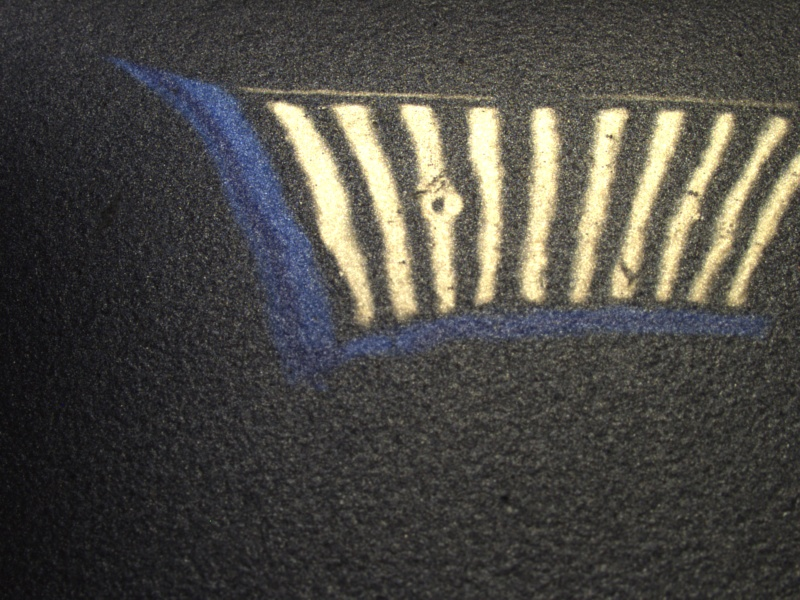bad: (416, 181, 471, 230)
